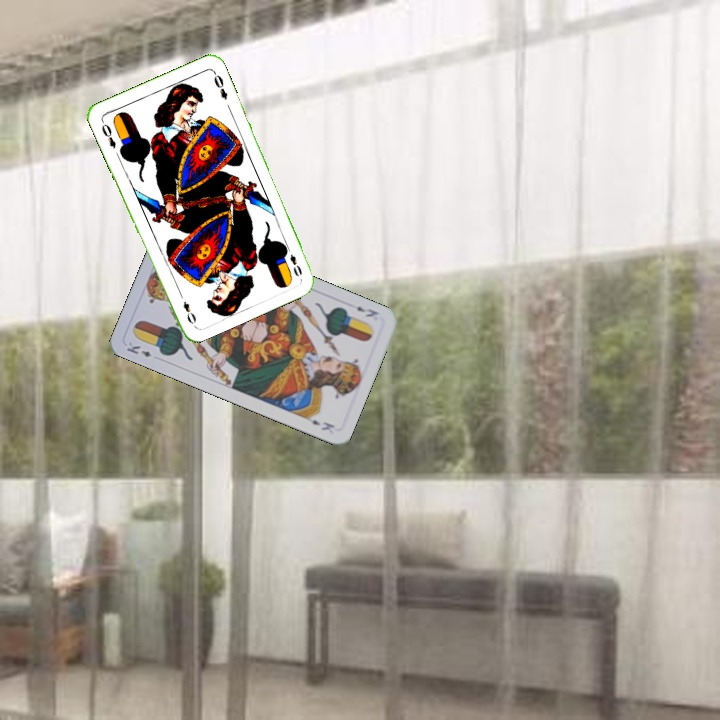EK: (123, 338, 154, 360), (353, 302, 381, 320)
EO: (281, 241, 305, 280), (97, 117, 119, 151)
